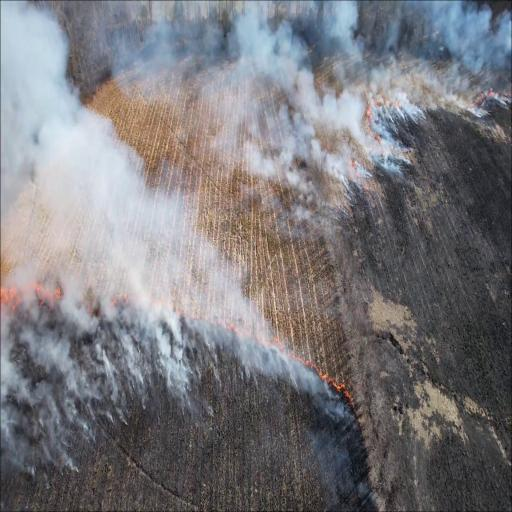smoke: (2, 2, 206, 308), (231, 12, 377, 201), (0, 339, 88, 474), (421, 2, 512, 86), (152, 318, 199, 410)
